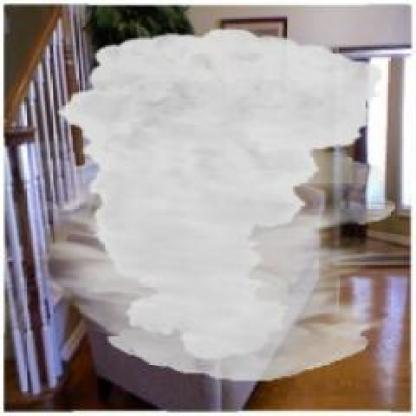Smoke: (43, 28, 396, 380)
